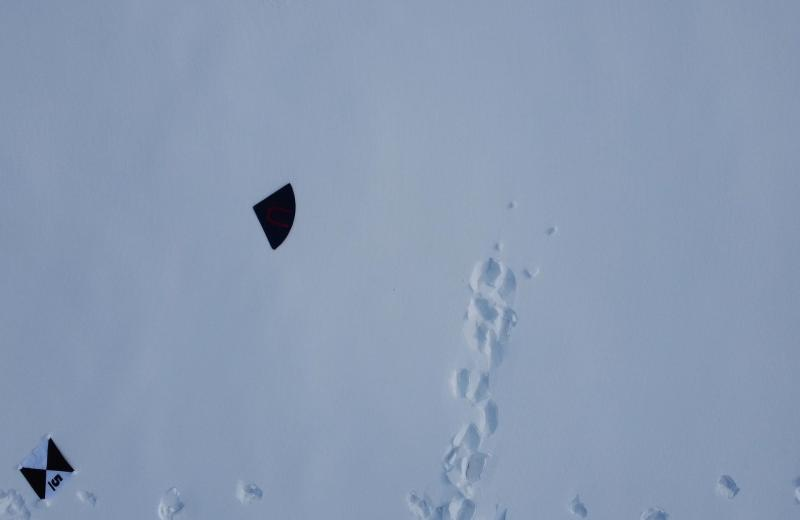Quarter Circle: (252, 183, 298, 252)
